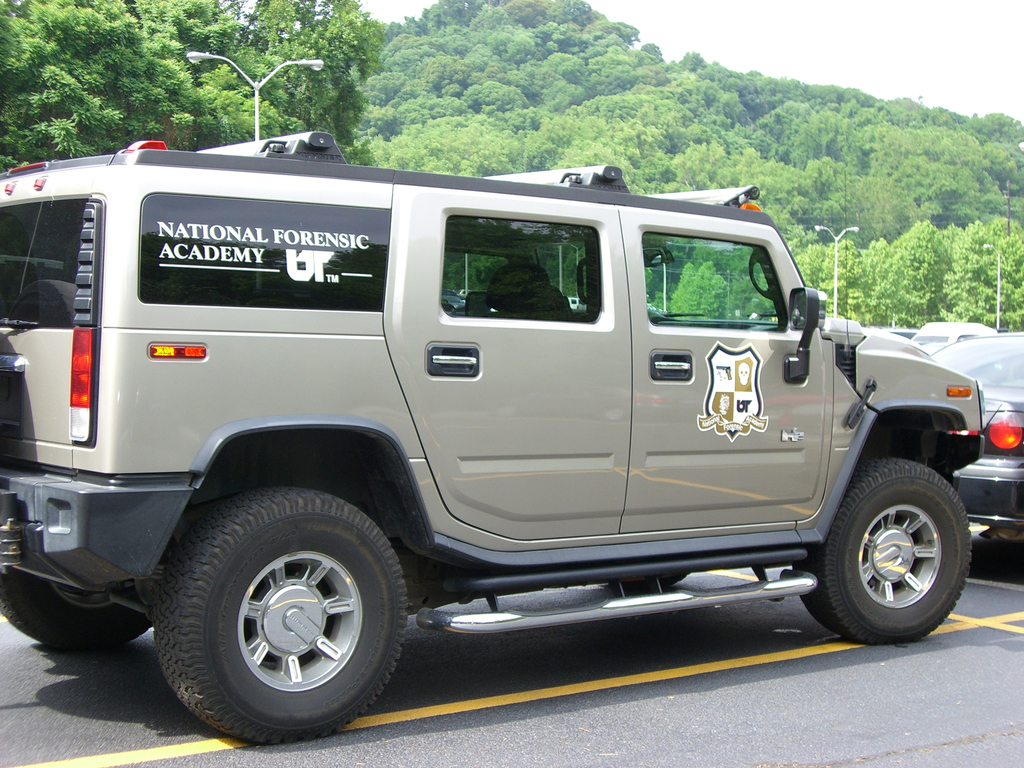person: (482, 259, 573, 317)
